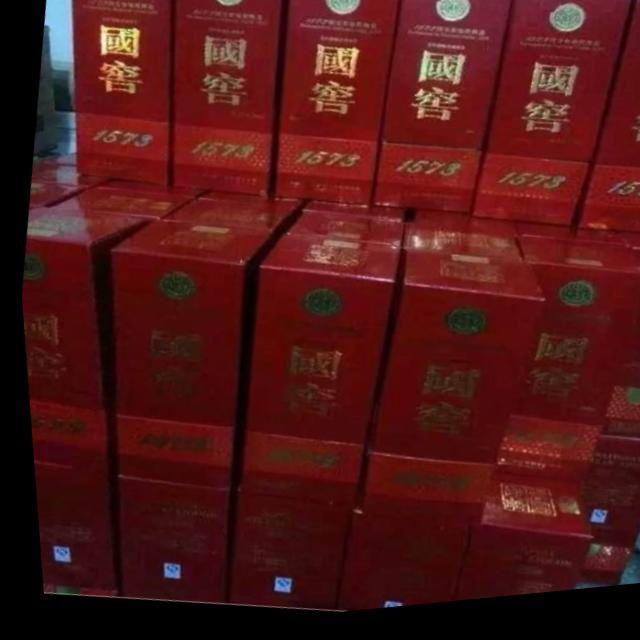box: (348, 252, 540, 532), (231, 237, 396, 513), (105, 222, 269, 491), (466, 0, 633, 237), (488, 247, 640, 494), (17, 208, 151, 473), (369, 0, 510, 222), (271, 0, 401, 211), (167, 0, 286, 203), (72, 0, 174, 191), (442, 480, 584, 609), (567, 8, 640, 245), (217, 496, 347, 617), (110, 478, 227, 608), (325, 515, 463, 617), (27, 461, 112, 600), (567, 446, 640, 597), (592, 308, 640, 454), (155, 203, 301, 244), (43, 189, 190, 222), (401, 230, 522, 269), (286, 217, 403, 254), (511, 230, 625, 261), (405, 216, 516, 245), (189, 194, 307, 216), (298, 206, 406, 229), (90, 181, 202, 203), (25, 180, 91, 212), (28, 162, 103, 189)
